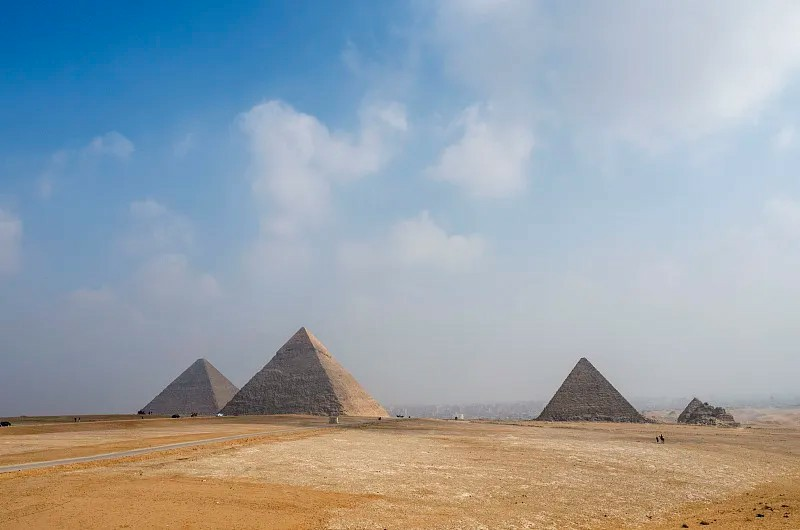Pyramid: (218, 327, 389, 418), (538, 358, 649, 422), (138, 359, 240, 416)
